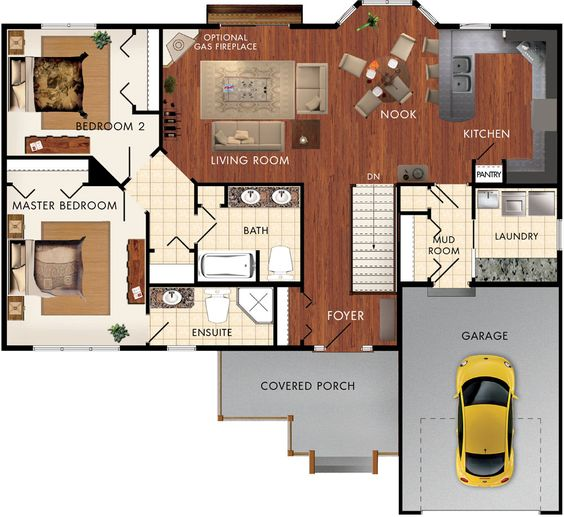wall: (1, 25, 7, 350), (396, 282, 402, 514), (558, 283, 564, 515), (556, 23, 561, 218), (95, 23, 218, 28), (145, 282, 278, 286), (195, 345, 277, 351), (469, 282, 562, 287), (471, 183, 564, 188), (299, 183, 303, 292), (194, 182, 303, 186), (145, 213, 149, 314), (396, 185, 400, 281), (158, 25, 161, 151), (490, 24, 559, 29), (119, 345, 165, 351), (289, 23, 333, 29), (3, 155, 90, 158), (2, 22, 39, 29), (273, 345, 313, 351), (273, 284, 276, 348), (2, 345, 32, 351), (373, 345, 402, 351), (193, 243, 197, 286), (471, 182, 475, 220), (557, 250, 561, 285), (397, 282, 432, 286), (397, 182, 432, 186), (395, 211, 430, 215), (437, 23, 460, 29), (193, 182, 197, 216), (255, 251, 259, 285), (132, 110, 159, 115), (501, 160, 506, 183), (273, 282, 301, 286), (471, 159, 475, 187), (81, 182, 118, 185), (223, 184, 227, 207), (400, 511, 421, 515), (540, 511, 561, 515), (426, 207, 431, 220), (300, 340, 304, 351), (131, 104, 135, 115), (145, 249, 154, 253)
